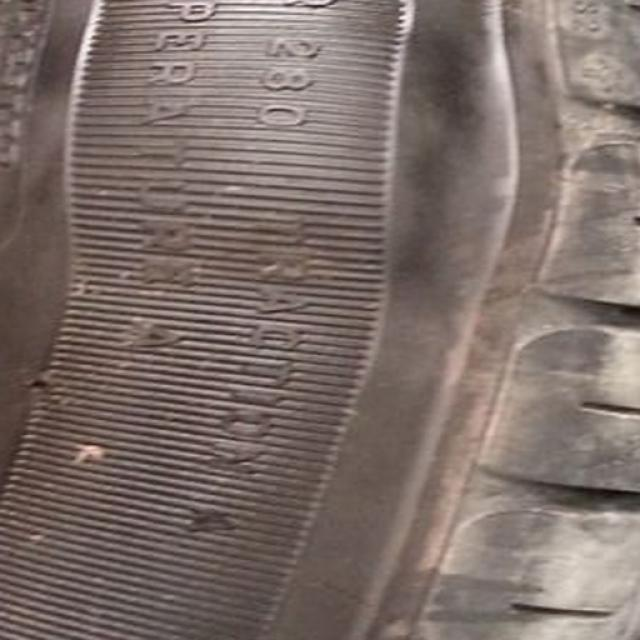Bulge: (8, 0, 531, 281)
